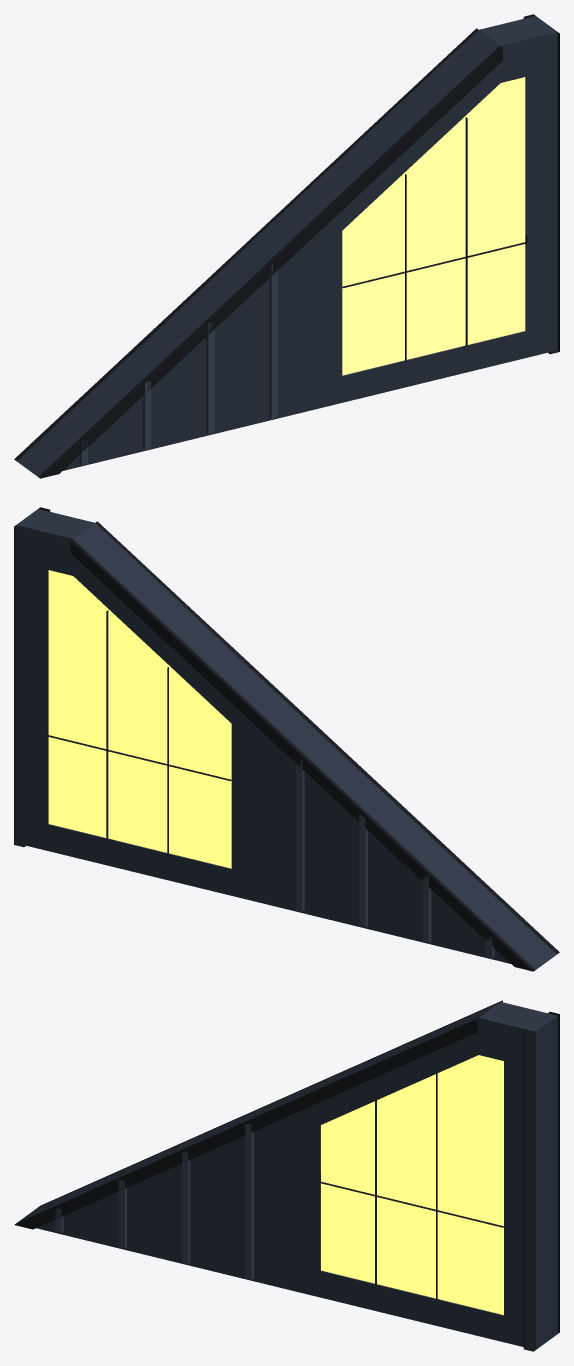
File: hall_sawtooth_gable.glb
3 renders of one model, top to bottom at view 1: azimuth 30°, elevation 25°; view 2: azimuth 150°, elevation 25°; view 3: azimuth 330°, elevation 25°, orthographic.
Visible parts, largest first — view 1: gable; view 2: gable; view 3: gable.
Boxes of the visible parts, left/top/right/bottom form: gable: left=14, top=14, right=559, bottom=478; gable: left=14, top=507, right=559, bottom=971; gable: left=14, top=1000, right=559, bottom=1351.
Bounding box in the file's own units: 4.1 × 2.4 × 0.36.
